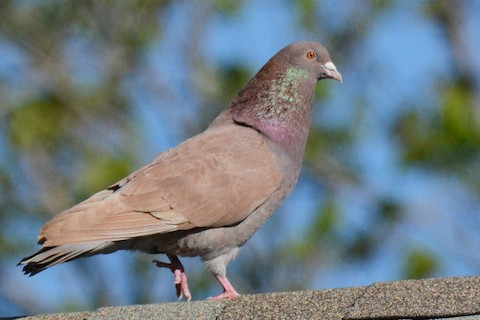pigeon: (16, 36, 346, 306)
